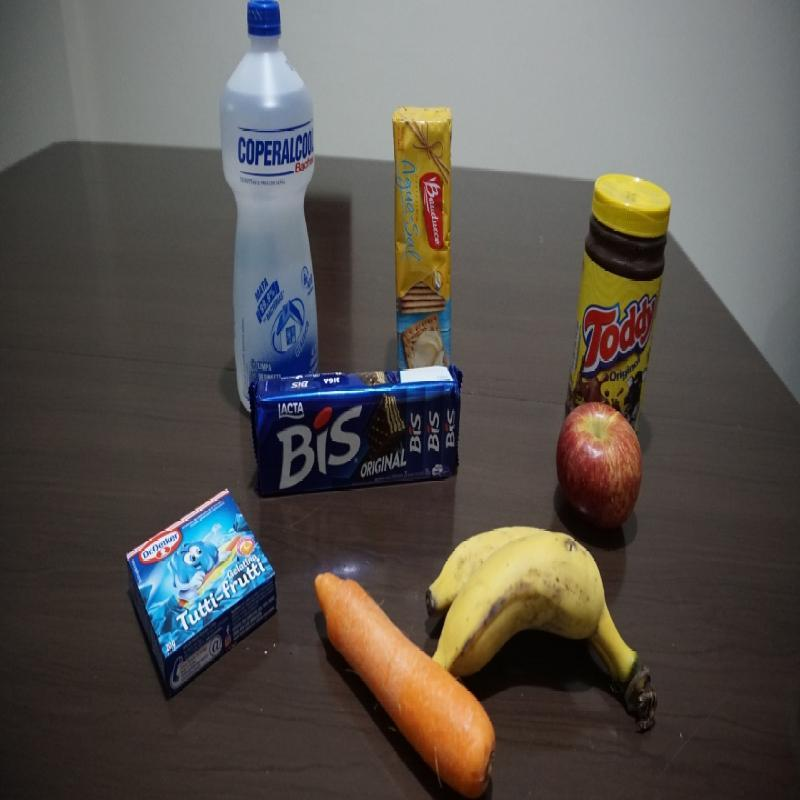Alcohol Bottle: (225, 1, 327, 371)
Apple: (555, 406, 646, 518)
Banana: (438, 517, 666, 748)
Carrot: (310, 564, 432, 763)
Chocolate Powder: (571, 172, 671, 388)
Cracker: (390, 105, 454, 363)
Gelatine: (126, 491, 280, 689)
